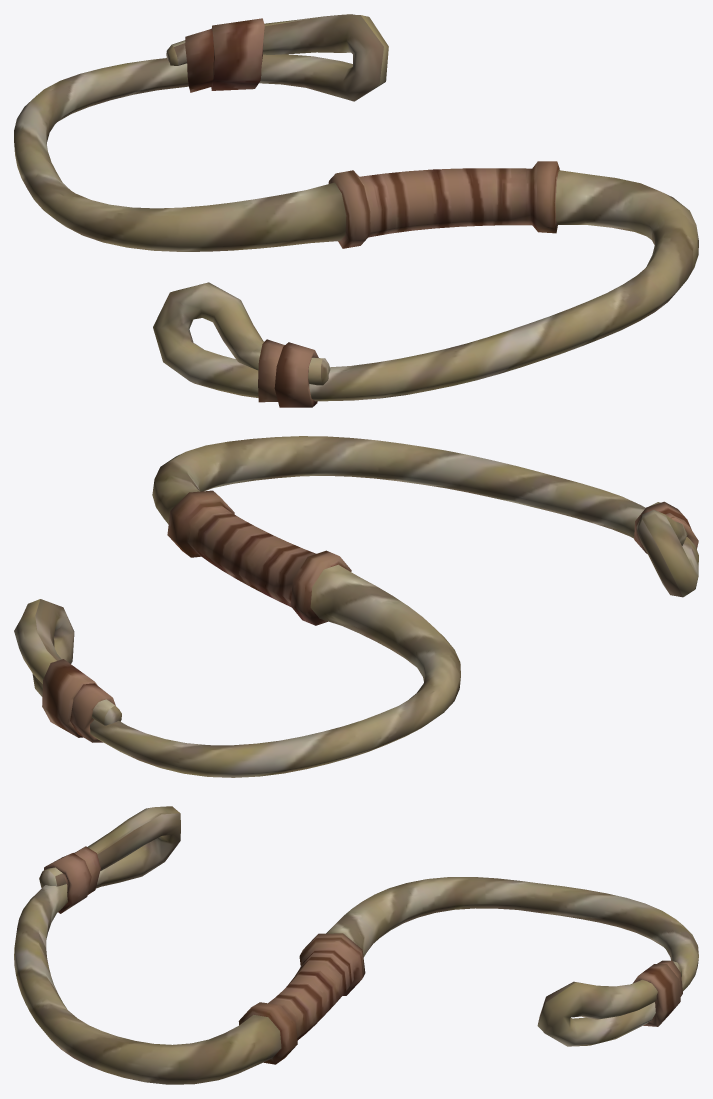
The picture shows the model from 3 angles, top to bottom: view 1: azimuth 30°, elevation 25°; view 2: azimuth 150°, elevation 25°; view 3: azimuth 270°, elevation 25°; orthographic projection. The views are drawn at different scales.
Parts seen in each view (by area): view 1: SM_Bow_String_01_LOD0; view 2: SM_Bow_String_01_LOD0; view 3: SM_Bow_String_01_LOD0.
Boxes of the visible parts, x1,y1,x2,y2 form: SM_Bow_String_01_LOD0: (14, 14, 698, 407); SM_Bow_String_01_LOD0: (14, 436, 698, 777); SM_Bow_String_01_LOD0: (14, 806, 698, 1084).
Size of the model in its own units: 0.6679 by 0.1135 by 0.8521.
Materials: 1 (1 with a texture image).
